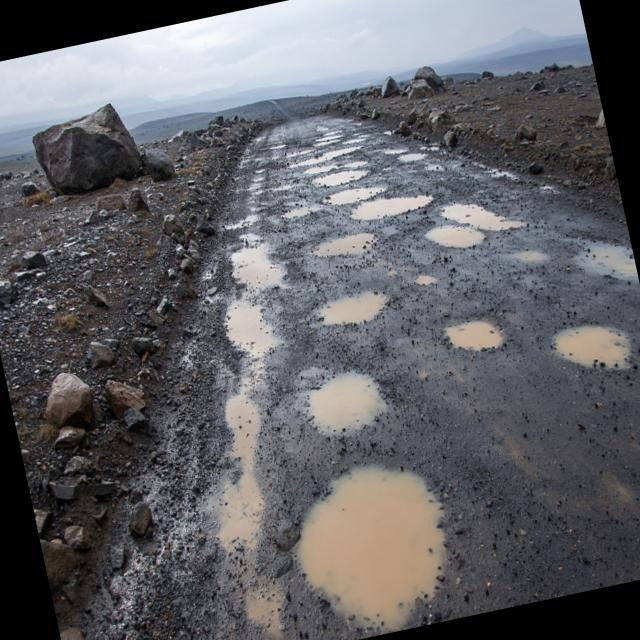Potholes: (274, 441, 468, 640), (536, 301, 640, 398), (416, 175, 526, 266), (288, 350, 387, 442), (433, 294, 524, 382), (294, 132, 371, 212), (568, 216, 640, 298), (304, 218, 390, 274), (342, 180, 433, 228), (315, 283, 398, 333), (386, 138, 435, 172)
